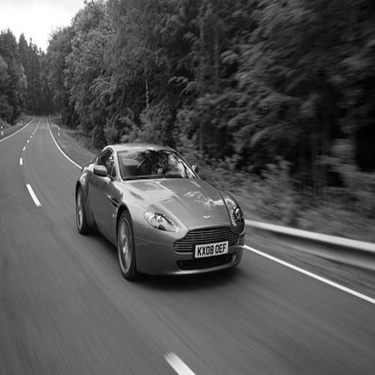car: (71, 139, 250, 283)
